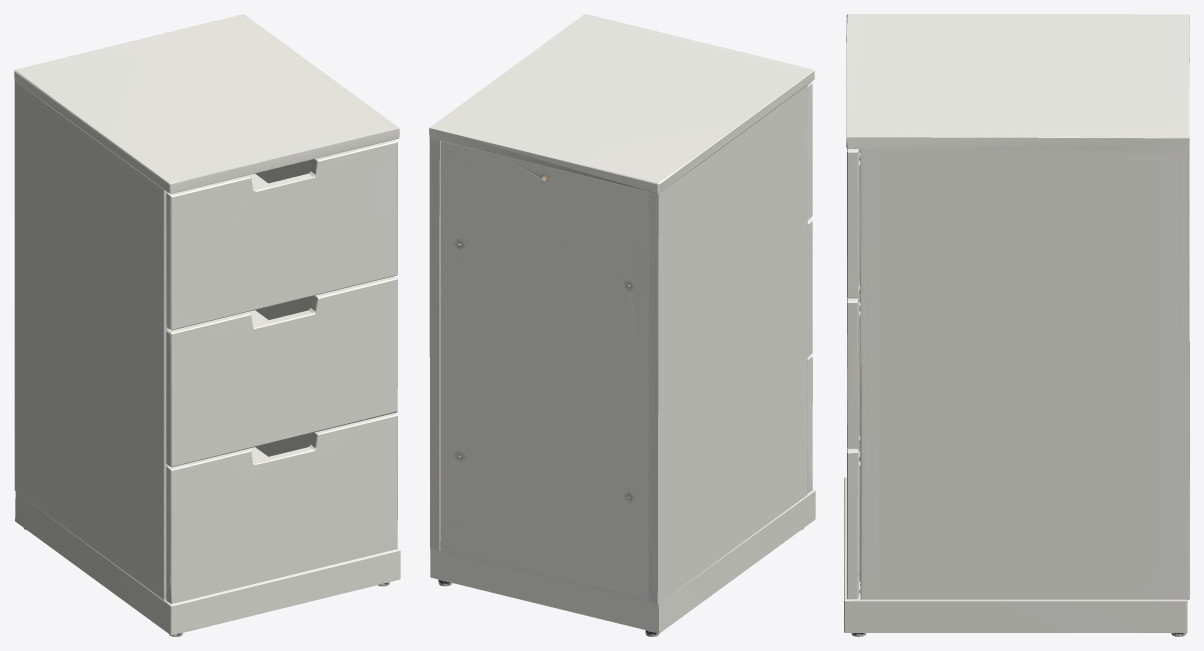
The model's file is 23 - NORDLI Chest of 3 drawers - white 40x76 cm.glb.
3 renders of one model, left to right at view 1: azimuth 30°, elevation 25°; view 2: azimuth 150°, elevation 25°; view 3: azimuth 270°, elevation 25°, orthographic. The views are drawn at different scales.
Visible parts, largest first — view 1: ProcessedMeshNode; view 2: ProcessedMeshNode; view 3: ProcessedMeshNode.
Boxes of the visible parts, left/top/right/bottom form: ProcessedMeshNode: left=14, top=14, right=400, bottom=636; ProcessedMeshNode: left=429, top=14, right=815, bottom=636; ProcessedMeshNode: left=844, top=14, right=1189, bottom=636.
Bounding box in the file's own units: 0.4003 × 0.7595 × 0.4732.
1 material, 1 textured.
